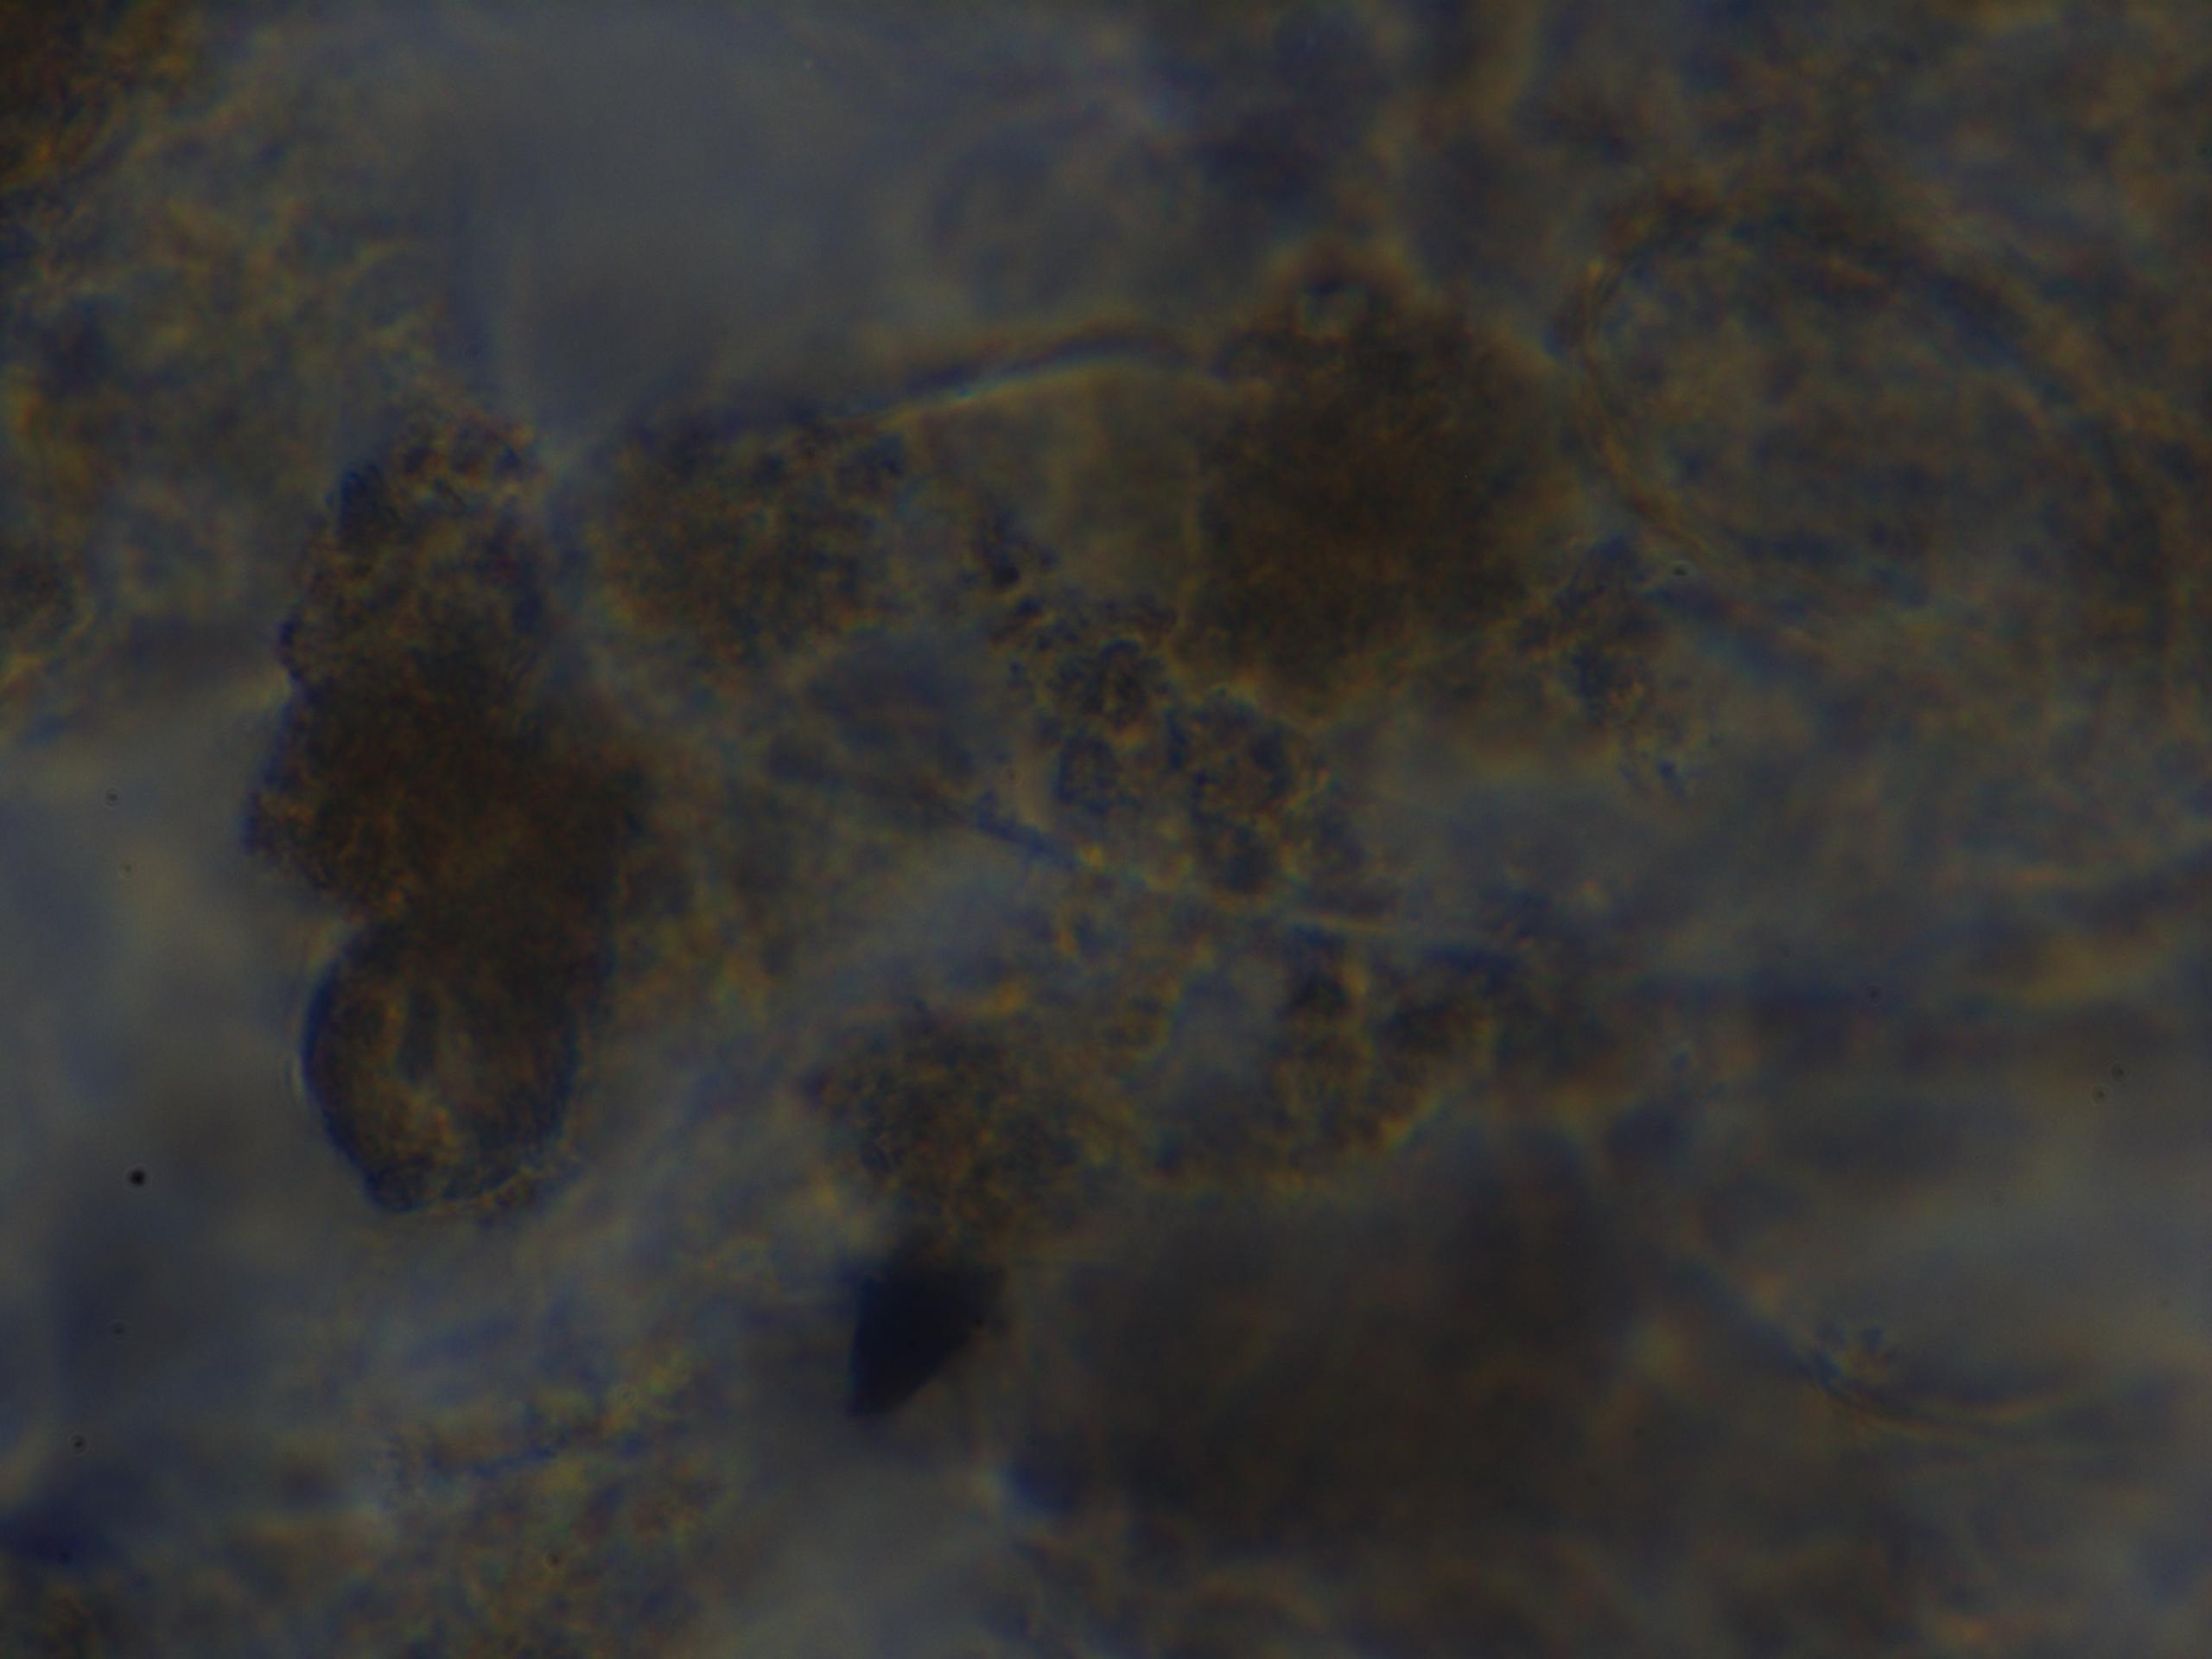filament: (775, 734, 1573, 1007), (796, 315, 1247, 469)
